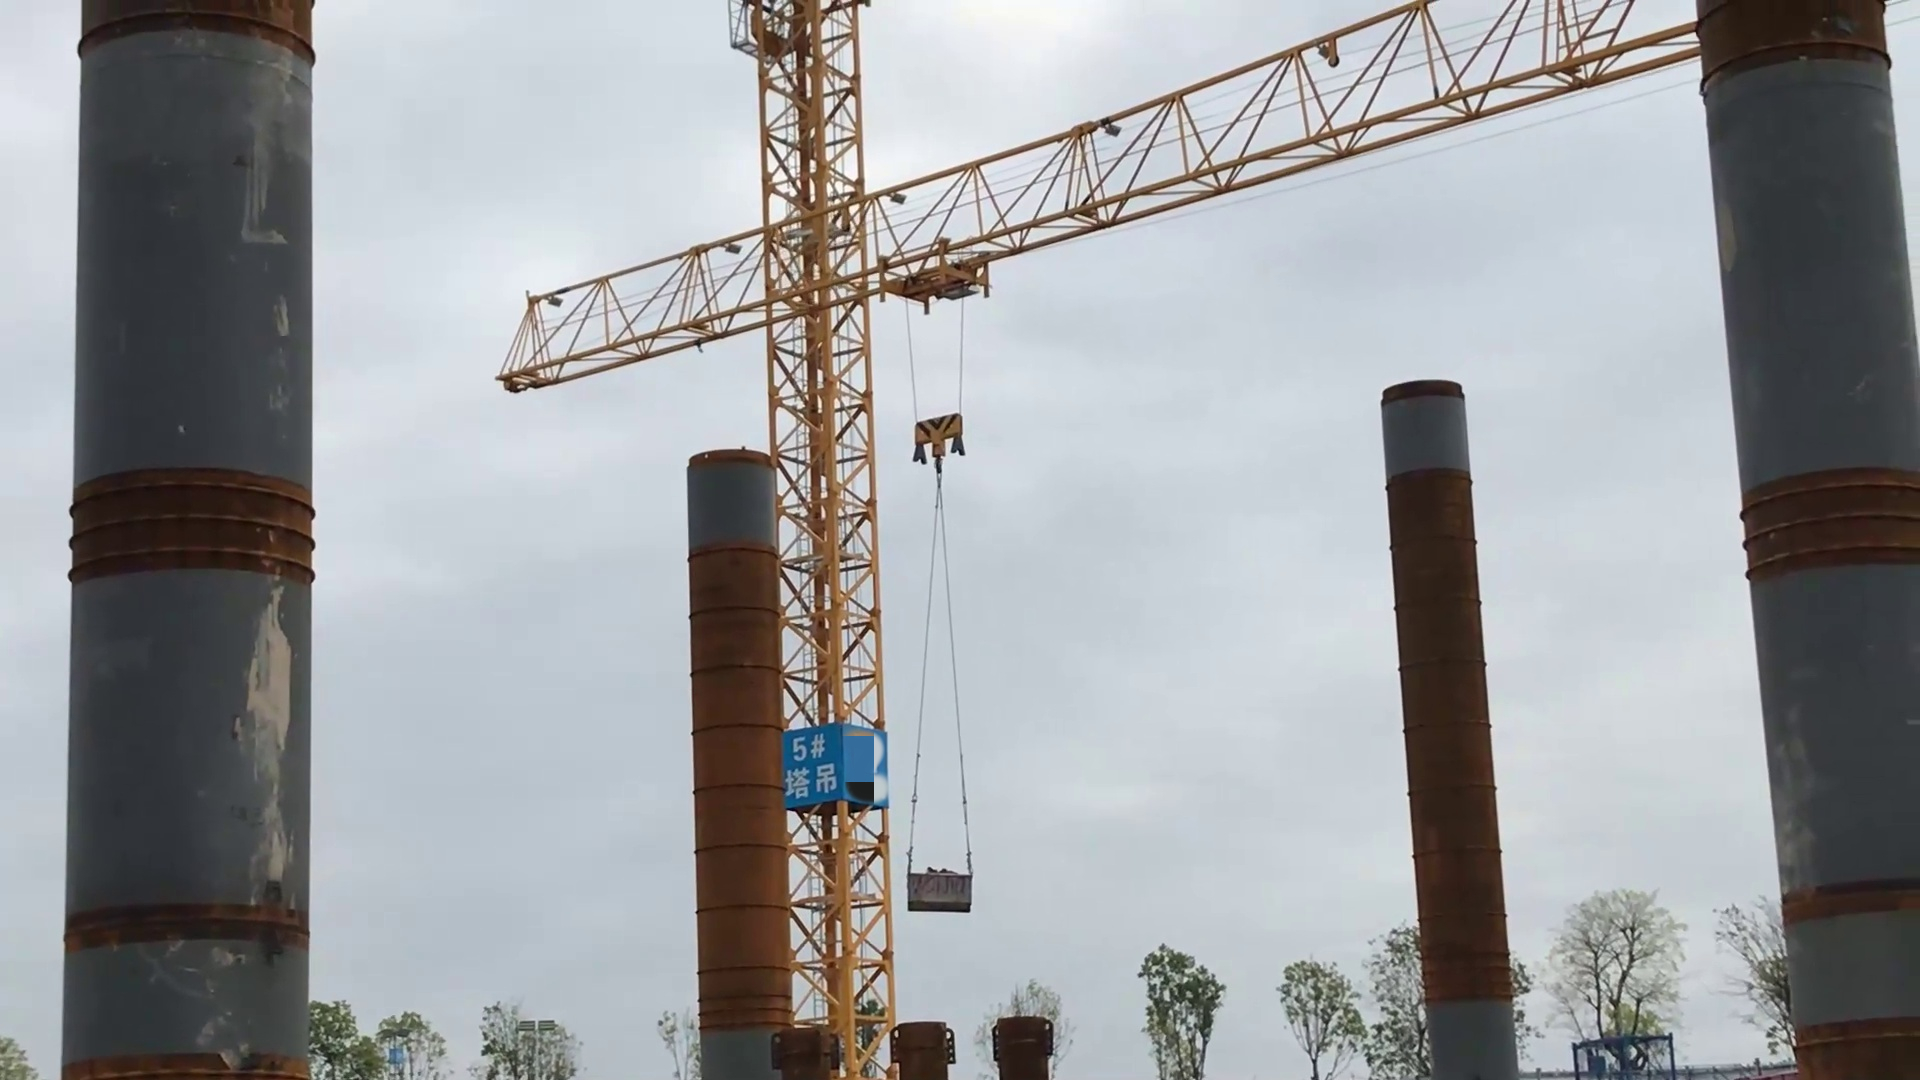hook: (911, 413, 967, 459)
